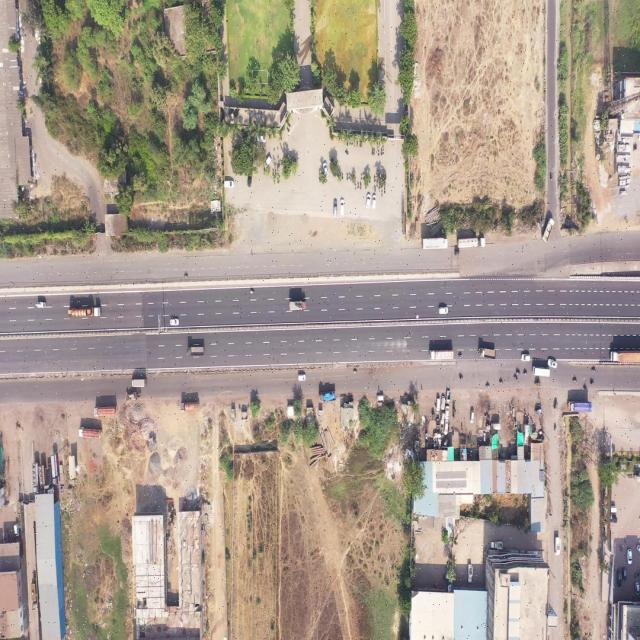3W: (534, 406, 543, 415), (533, 380, 541, 386), (554, 400, 558, 411)
Bus: (532, 366, 550, 376)
Cars: (256, 132, 267, 144), (520, 352, 532, 362), (264, 155, 272, 169), (626, 551, 633, 567), (633, 580, 640, 596), (339, 198, 345, 216), (170, 315, 179, 327), (548, 356, 557, 368), (617, 572, 623, 589), (298, 373, 308, 383), (224, 180, 235, 189), (323, 161, 329, 177), (333, 198, 338, 216), (366, 193, 371, 210), (372, 194, 377, 210), (438, 307, 448, 315), (470, 410, 475, 424), (436, 399, 441, 413), (247, 175, 252, 188), (446, 406, 450, 422), (376, 394, 384, 402), (442, 396, 446, 411), (442, 414, 446, 426)
LCV: (554, 534, 562, 556), (490, 539, 504, 551), (467, 562, 474, 585), (35, 300, 47, 309)
M2W: (498, 377, 504, 386), (485, 382, 490, 391), (591, 367, 597, 374), (249, 288, 255, 295), (458, 373, 463, 381), (582, 385, 588, 391), (458, 351, 463, 358), (184, 272, 188, 280), (360, 172, 363, 182), (573, 377, 577, 384), (377, 149, 380, 158), (523, 371, 528, 376), (513, 376, 518, 381), (274, 168, 277, 176), (359, 183, 362, 191), (516, 369, 520, 375), (356, 140, 359, 147), (346, 172, 348, 182), (373, 147, 375, 157), (590, 380, 594, 385), (357, 181, 359, 190), (374, 174, 376, 183), (381, 190, 383, 199), (341, 172, 343, 181), (350, 172, 352, 181), (382, 149, 384, 157), (354, 184, 356, 191), (351, 141, 353, 147)
MAV: (67, 305, 101, 318), (610, 350, 639, 365), (457, 237, 486, 250)
Truck: (78, 425, 103, 441), (422, 239, 449, 252), (567, 400, 593, 413), (542, 216, 555, 242), (428, 348, 454, 361), (94, 406, 118, 419), (288, 298, 308, 312), (317, 390, 336, 404), (180, 401, 200, 414), (478, 346, 496, 359), (186, 346, 206, 356), (130, 377, 147, 387)
